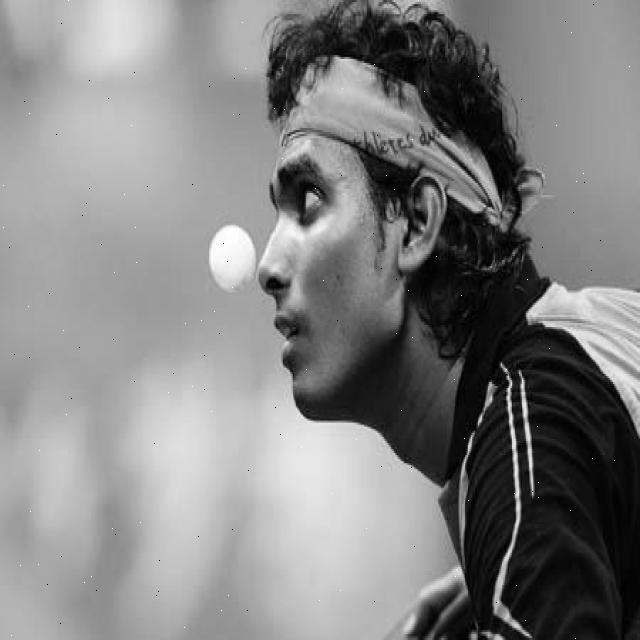ping-pong-ball: (210, 224, 256, 292)
